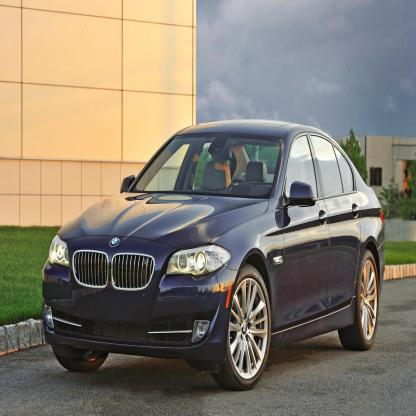Vehicle: (33, 116, 396, 393)
